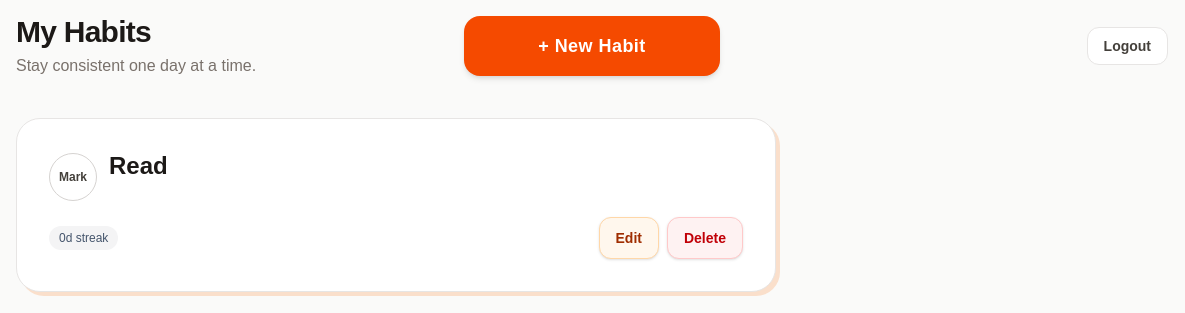
Test: habit form › toggles completion and updates the streak display
This screenshot has width=1185, height=313.
Expected: the text with test id "habit-streak-read" reads "0d streak", left=49, top=226, right=118, bottom=250
Click the button with test id "habit-complete-read".
click(73, 177)  # box left=49, top=153, right=97, bottom=201
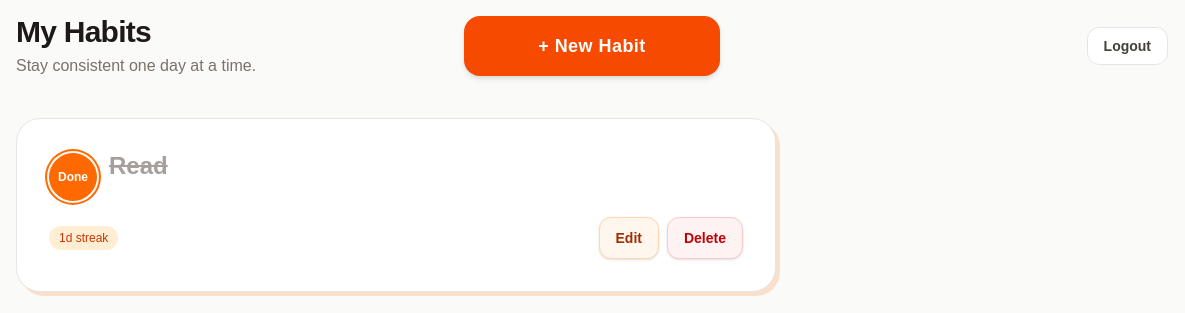
Now the text with test id "habit-streak-read" reads "1d streak", box left=49, top=226, right=118, bottom=250
Click the button with test id "habit-complete-read".
click(73, 177)  # box left=49, top=153, right=97, bottom=201
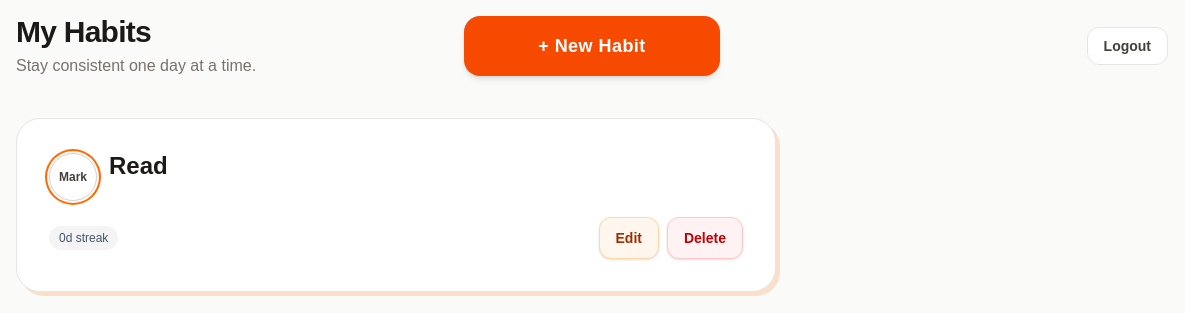
Now the text with test id "habit-streak-read" reads "0d streak", box left=49, top=226, right=118, bottom=250
